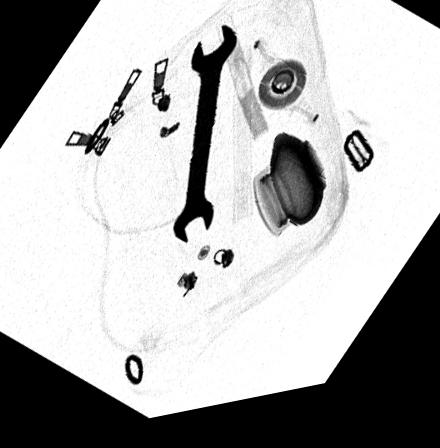Wrench: (171, 32, 237, 254)
